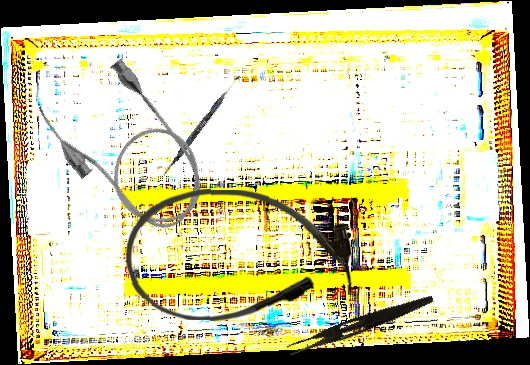Cannula: (29, 47, 226, 254), (122, 187, 357, 324)
Dressing Forceps: (286, 287, 435, 362)
Spatula Surgical: (161, 72, 242, 179)
